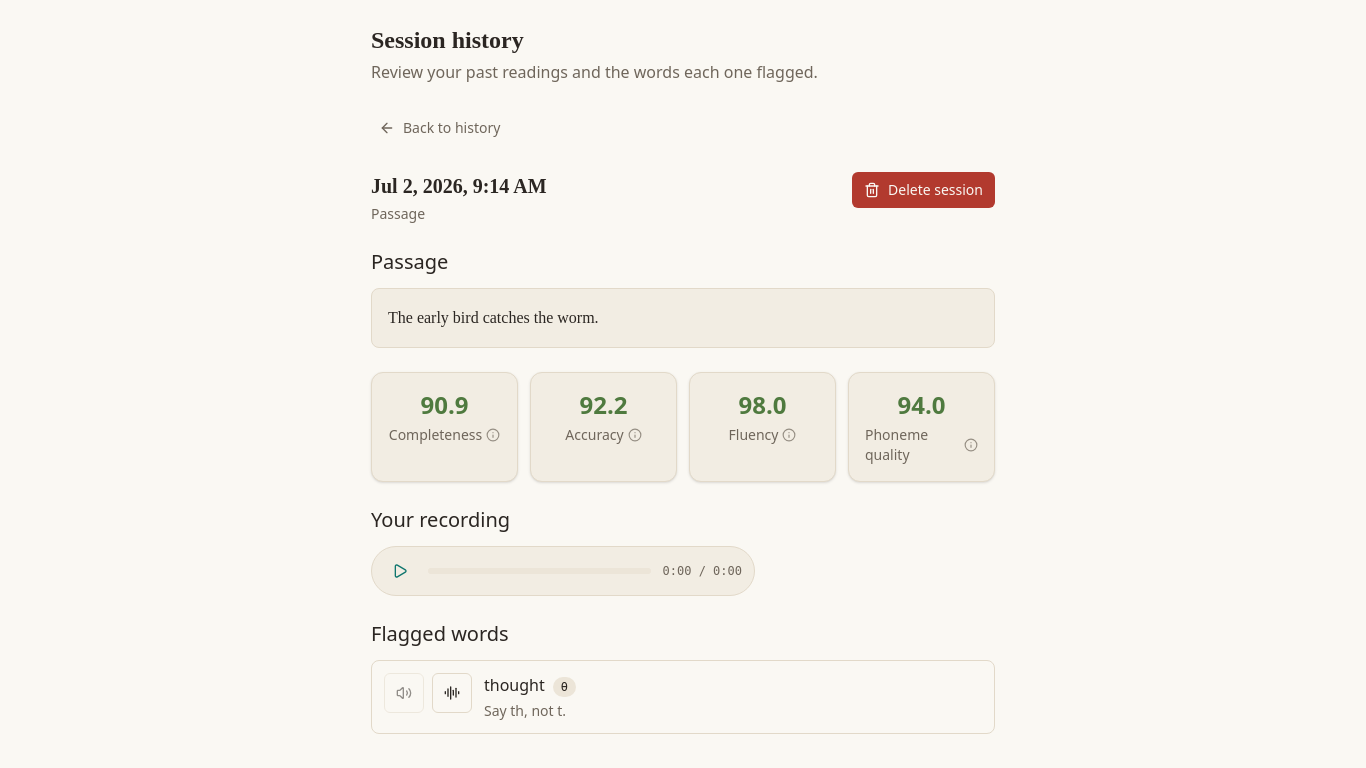
Test: SessionHistory › should not delete the session when the confirm is cancelled
The image size is (1366, 768).
Step 1. Click the button "Delete session" → (924, 190), box x1=852 y1=172 x2=995 y2=208
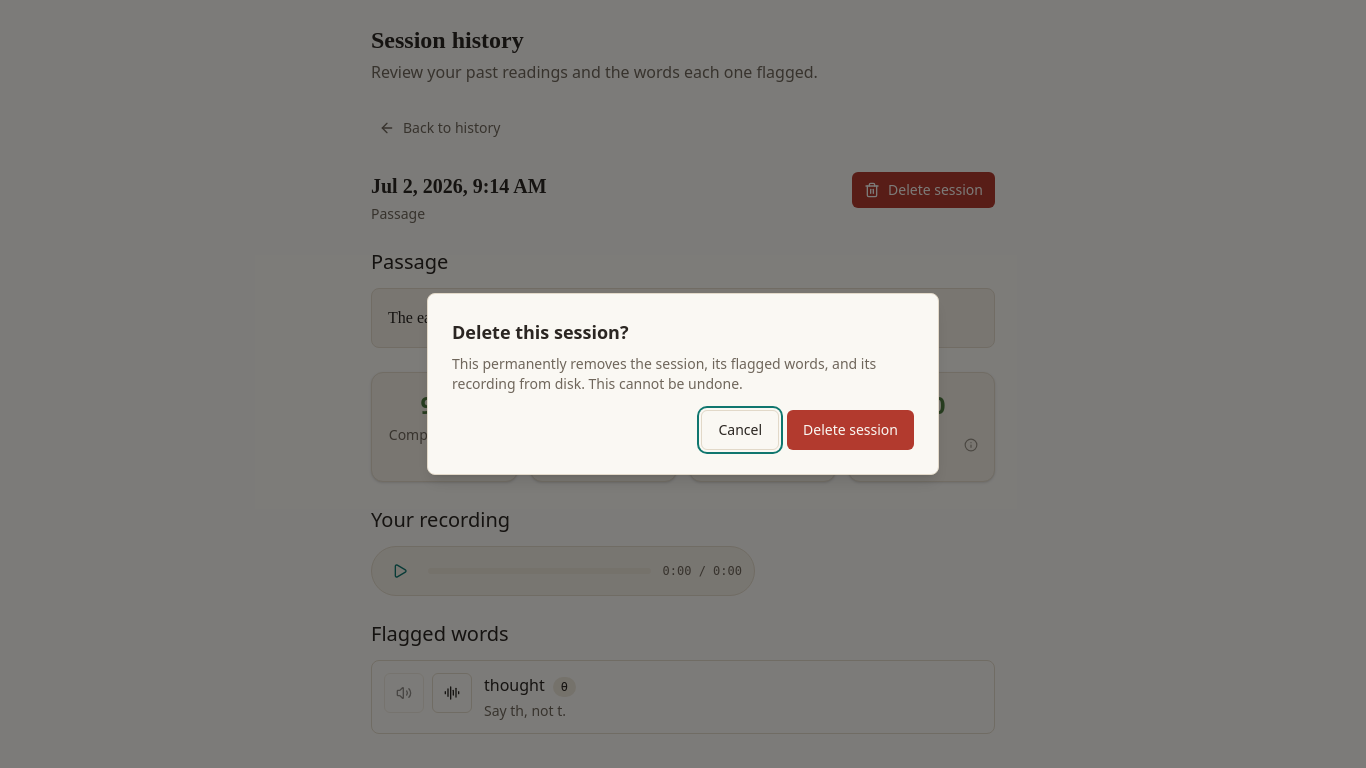
Step 2. Click the button "Cancel" → (740, 430), box x1=701 y1=410 x2=779 y2=450
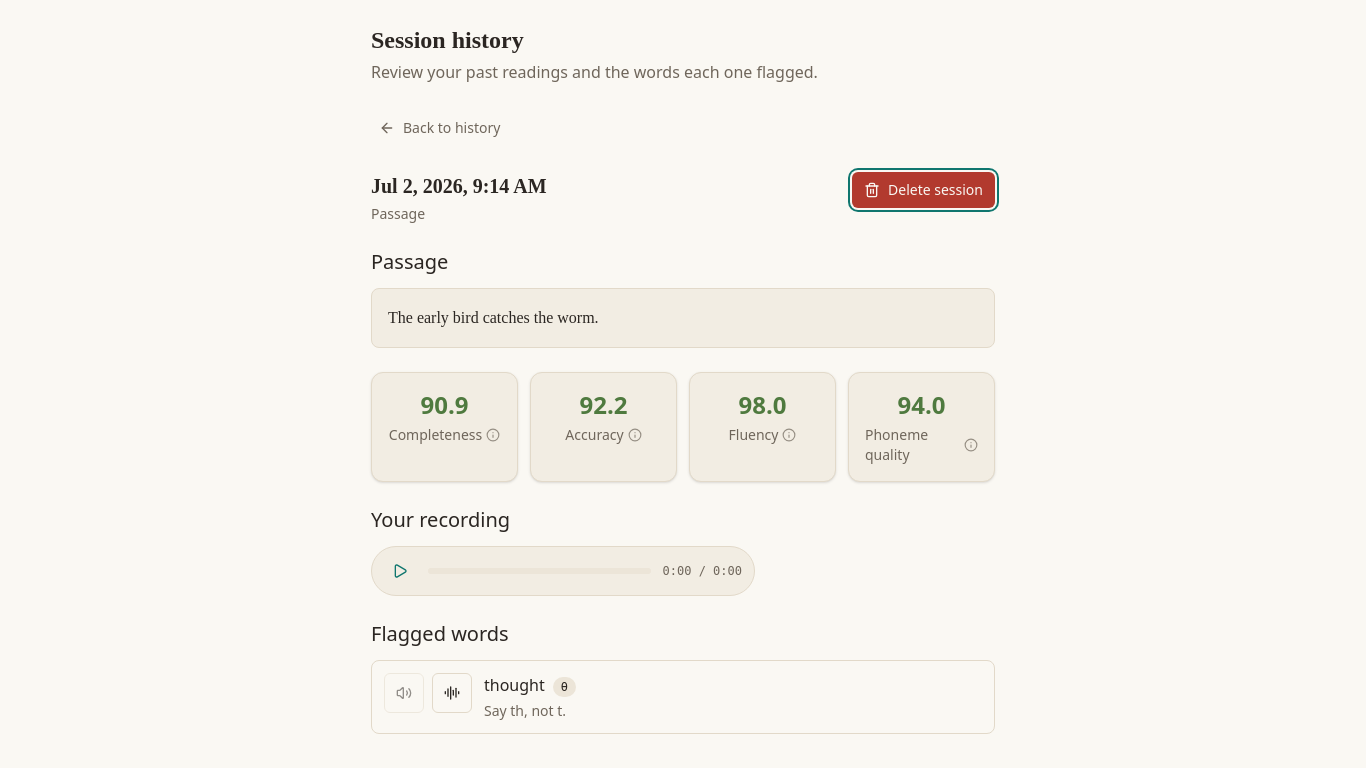
Expected: the text "Completeness" is shown, x1=389 y1=425 x2=500 y2=445
Expected: the dialog is gone
